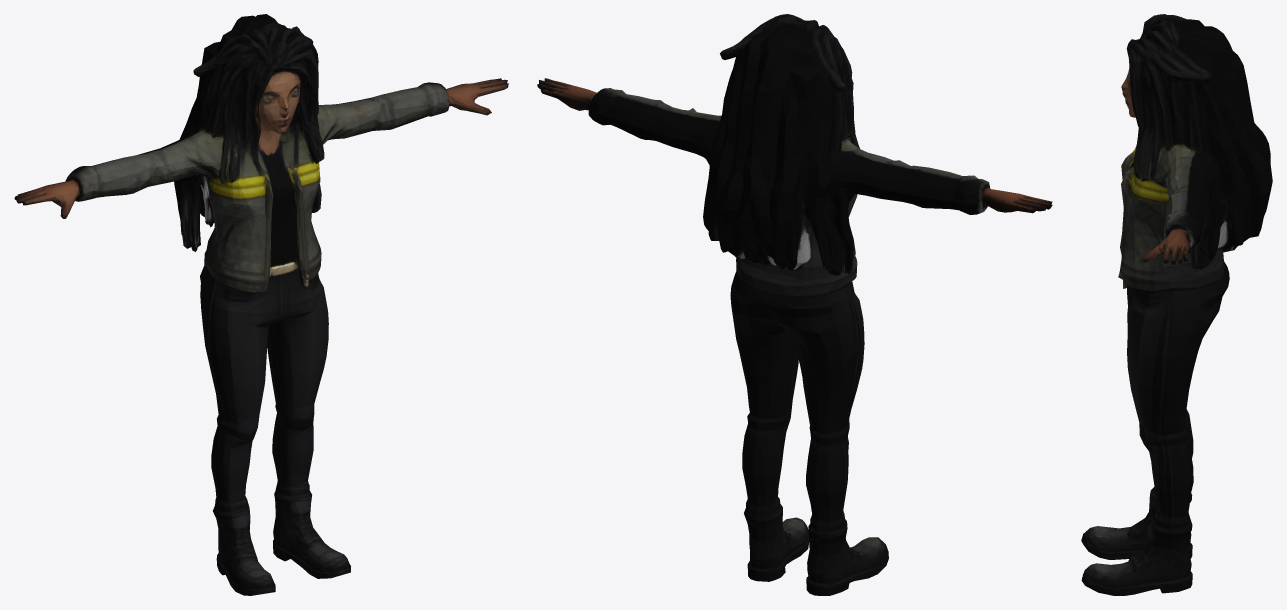
The model's file is dreads_t.glb.
The picture shows the model from 3 angles, left to right: view 1: azimuth 30°, elevation 25°; view 2: azimuth 150°, elevation 25°; view 3: azimuth 270°, elevation 25°; orthographic projection. The views are drawn at different scales.
Visible parts, largest first — view 1: world; view 2: world; view 3: world.
Part boxes in pixels (<box>): world: <box>14,14,508,595</box>; world: <box>537,14,1052,595</box>; world: <box>1081,14,1272,595</box>.
Size of the model in its own units: 0.96 by 0.9996 by 0.3149.
Materials: 1 (1 with a texture image).
